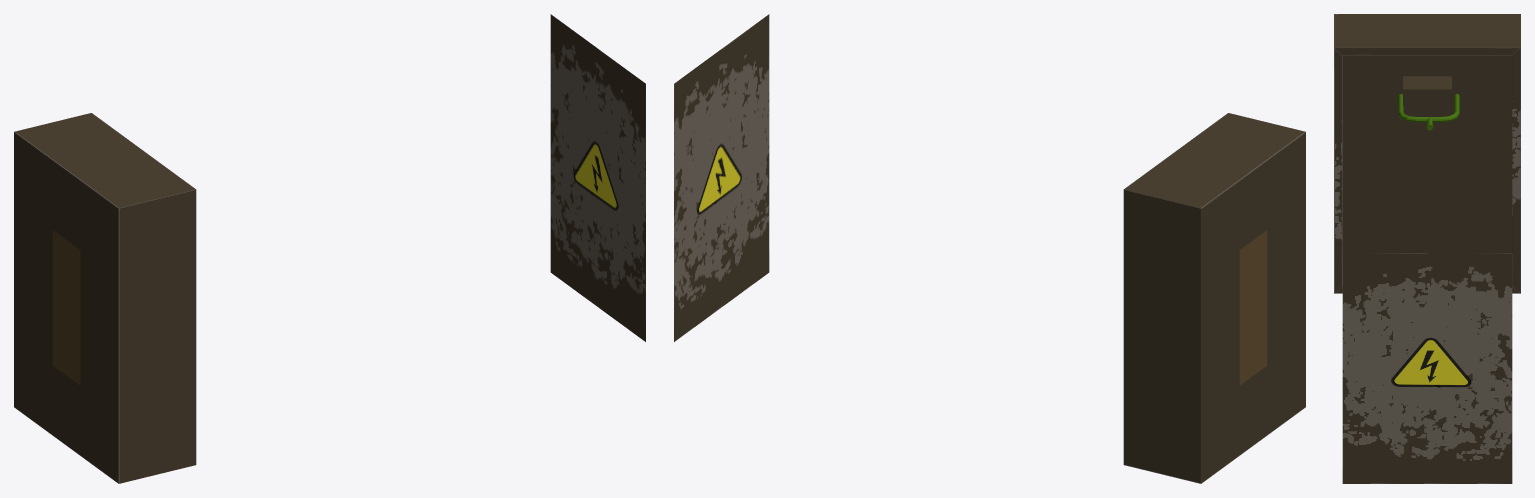
The model's file is ElectricBox.fbx.
3 views of the same model, side by side, from view 1: azimuth 30°, elevation 25°; view 2: azimuth 150°, elevation 25°; view 3: azimuth 270°, elevation 25° (orthographic). The views are drawn at different scales.
Visible parts, largest first — view 1: Cube, Cube.001; view 2: Cube, Cube.001; view 3: Cube, Cube.001, Cube.003.
Part boxes in pixels (x1,y1,x2,y2): Cube: (14, 113, 196, 483); Cube.001: (550, 14, 645, 341); Cube: (1123, 113, 1305, 483); Cube.001: (674, 14, 769, 341); Cube: (1334, 14, 1520, 293); Cube.001: (1342, 253, 1512, 483); Cube.003: (1398, 94, 1459, 130).
Bounding box in the file's own units: 587 × 291 × 200.
